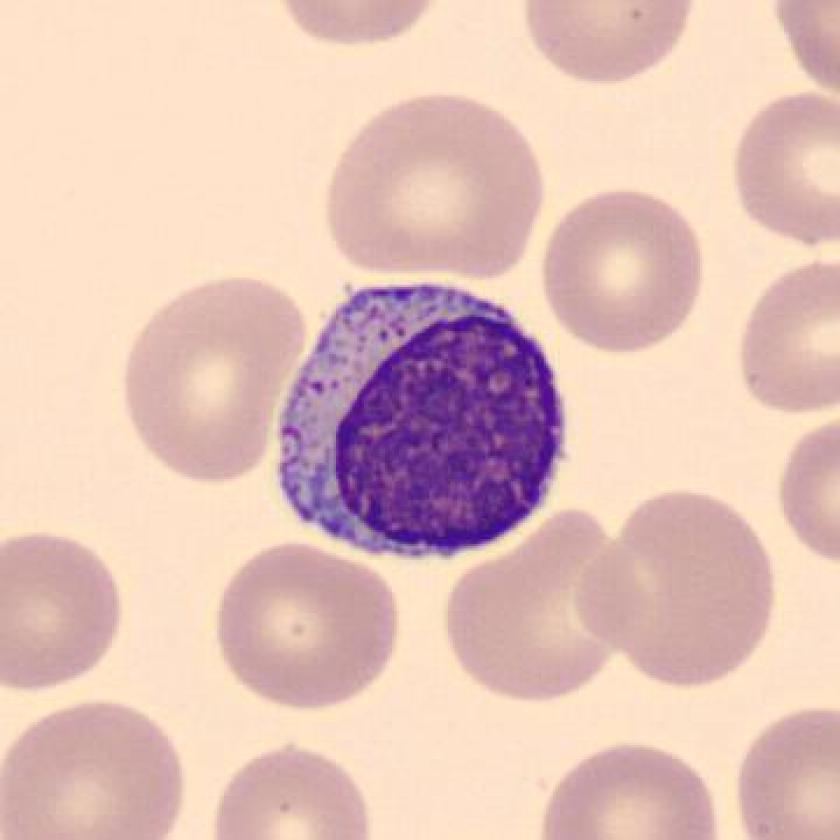lymphocyte: (260, 265, 582, 579)
